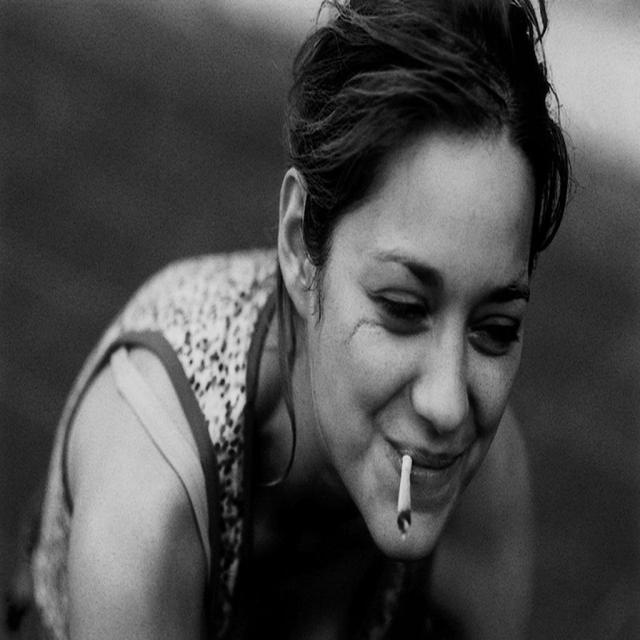smoking: (255, 4, 582, 598)
